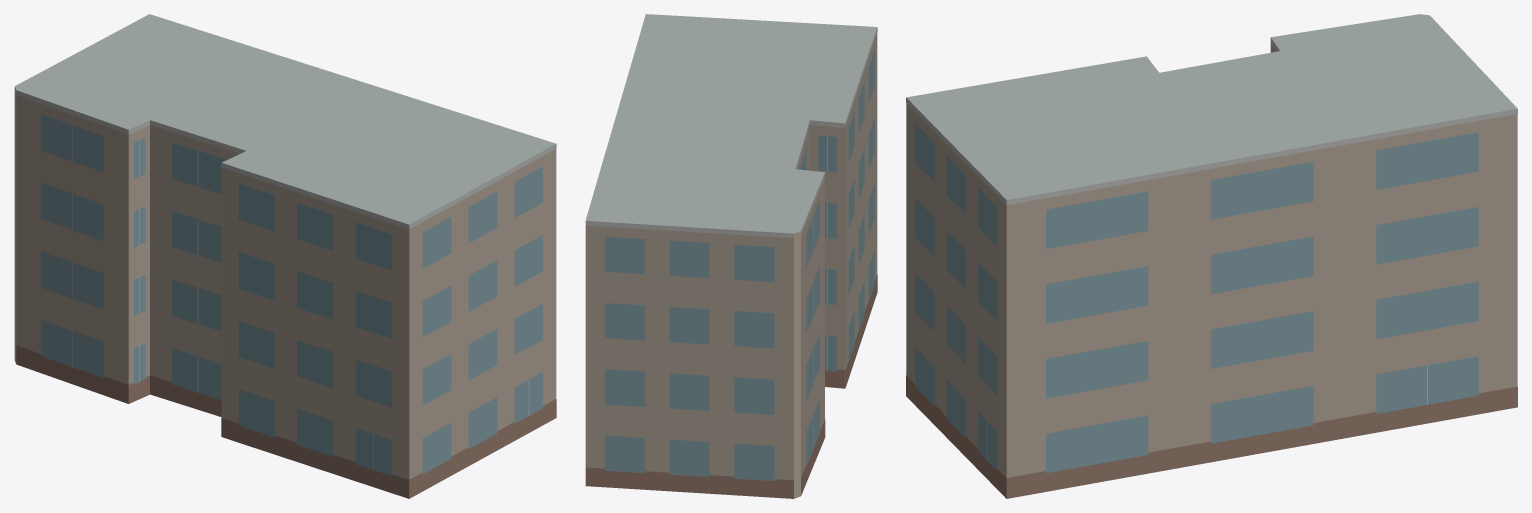
Rendered from survey-upis-33020370.glb.
3 views of the same model, side by side, from view 1: azimuth 30°, elevation 25°; view 2: azimuth 150°, elevation 25°; view 3: azimuth 270°, elevation 25° (orthographic). The views are drawn at different scales.
Visible parts, largest first — view 1: survey-upis-33020370.tmp; view 2: survey-upis-33020370.tmp; view 3: survey-upis-33020370.tmp.
Boxes of the visible parts, <box> form: survey-upis-33020370.tmp: <box>14,14,556,498</box>; survey-upis-33020370.tmp: <box>585,14,877,498</box>; survey-upis-33020370.tmp: <box>906,14,1517,498</box>.
Bounding box in the file's own units: 18.38 × 13.75 × 25.52.
